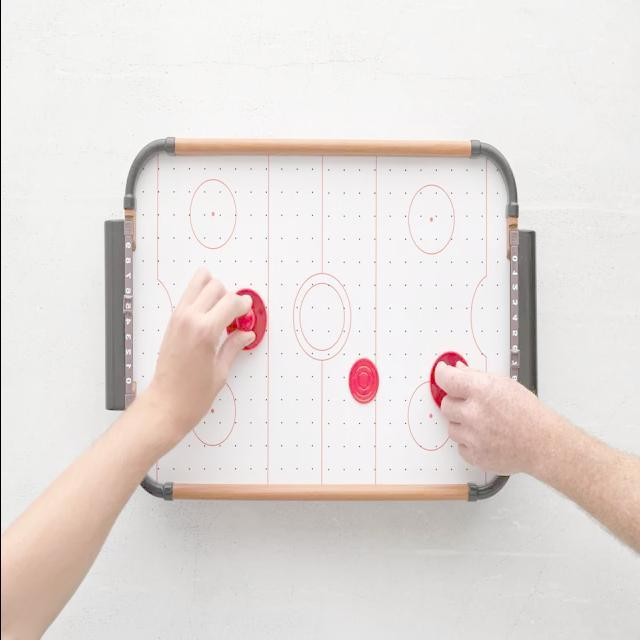chip: (346, 358, 382, 410)
